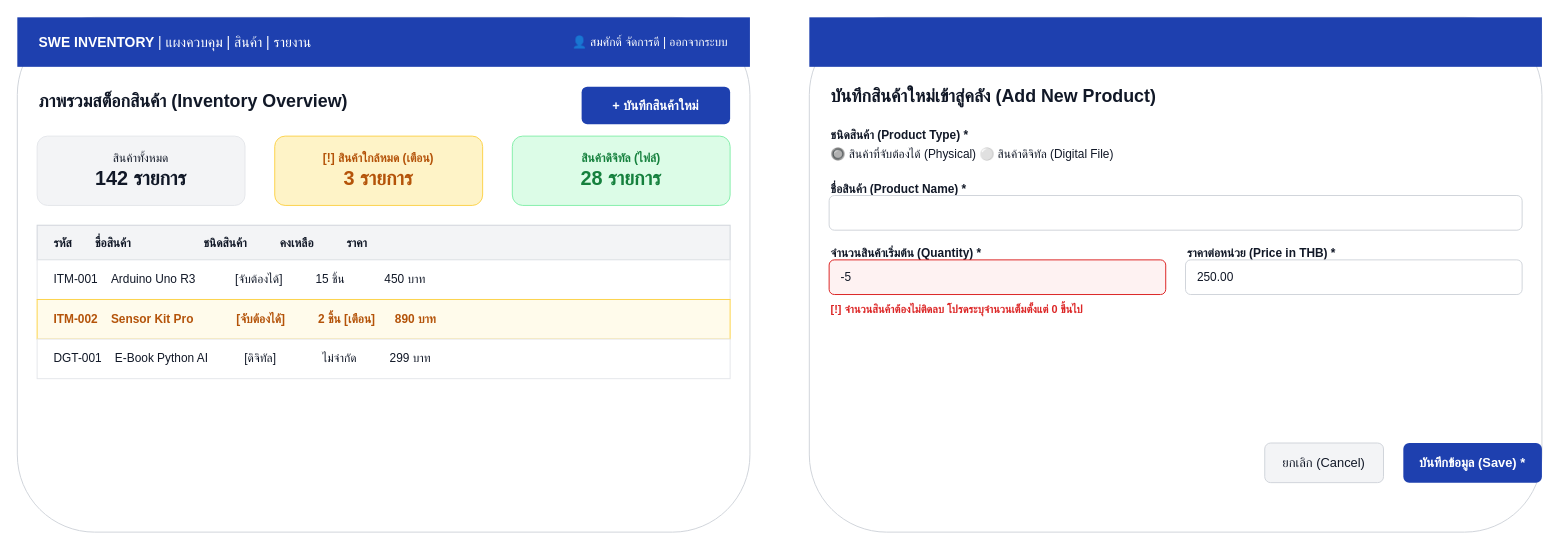
This 1559x549 diagram has some shape labels left out. Here are the shapes that lost their labels. From the top down, the box of each, then its label:
(809, 17, 1541, 66): SWE INVENTORY | < ย้อนกลับไป Dashboard
(828, 195, 1522, 230): ESP32 Development Board
